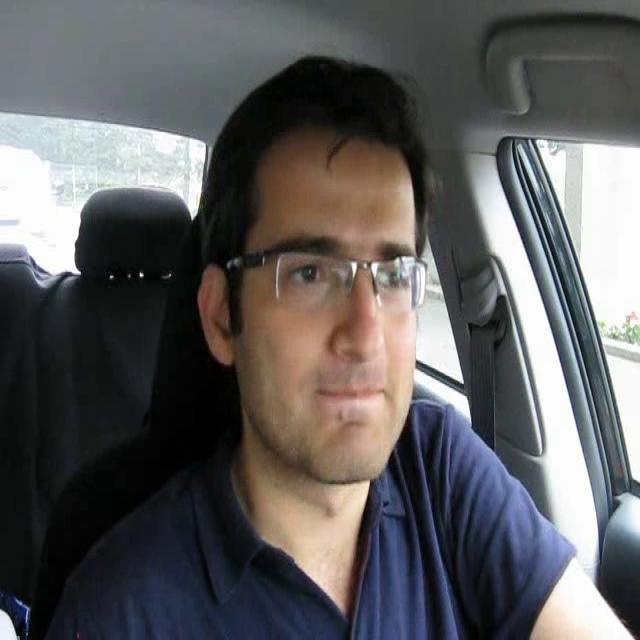close: (311, 378, 389, 411)
